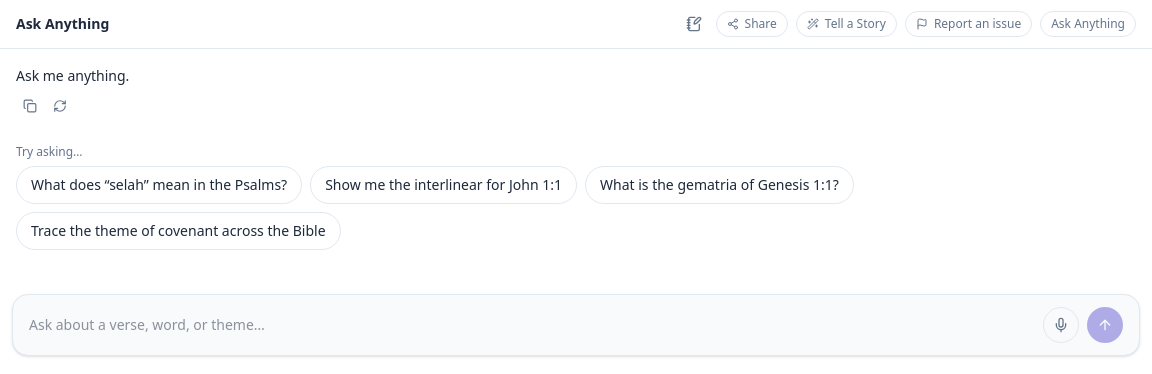
Test: ChatPane › renders existing messages and sends a new one on submit
Check: the text "Ask me anything." is shown, box [16,65,129,86]
Type "What is love?" into the field at (532, 325), box [29,315,1035,335]
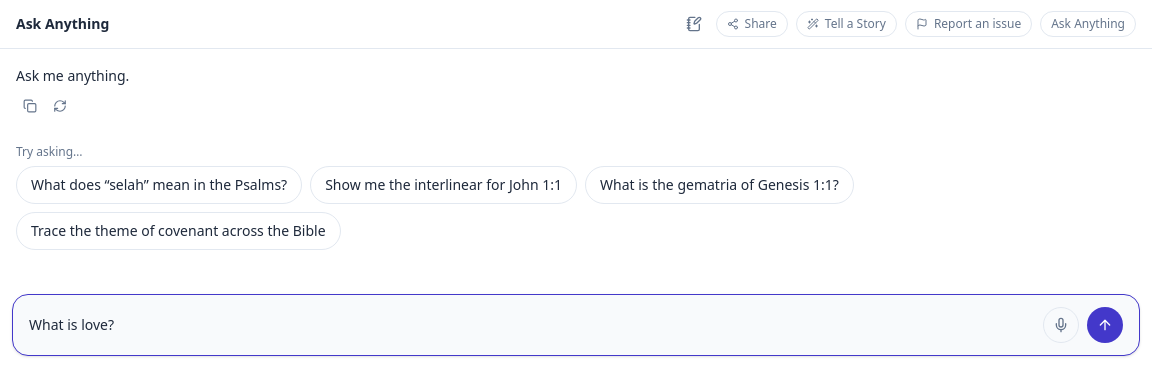
Click the button named "send" at (1105, 325), box [1087,307,1123,343]
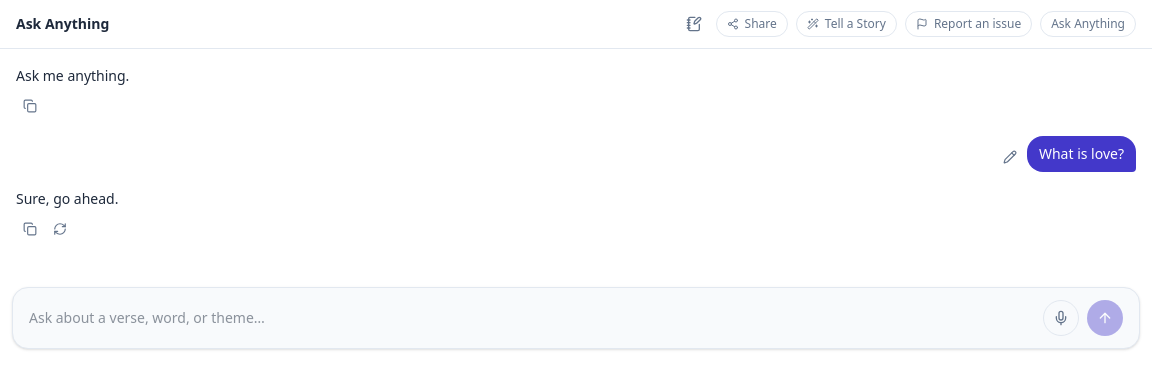
Check: the text "Sure, go ahead." is shown, box [16,188,118,209]
